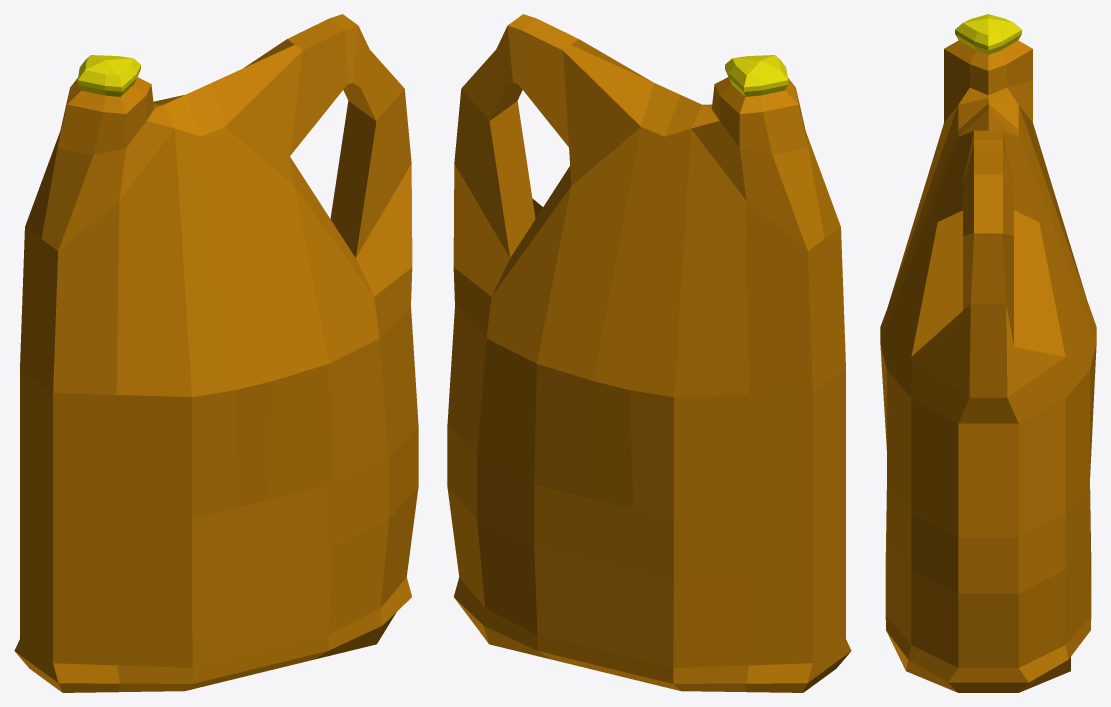
File: EngineOil_Mineral.fbx
3 renders of one model, left to right at view 1: azimuth 30°, elevation 25°; view 2: azimuth 150°, elevation 25°; view 3: azimuth 270°, elevation 25°, orthographic. The views are drawn at different scales.
Visible parts, largest first — view 1: pCube1; view 2: pCube1; view 3: pCube1.
Part boxes in pixels (bbox=[...]): pCube1: bbox=[14, 14, 418, 692]; pCube1: bbox=[447, 14, 851, 692]; pCube1: bbox=[880, 14, 1096, 692].
Size of the model in its own units: 11.93 by 18.9 by 6.71.
